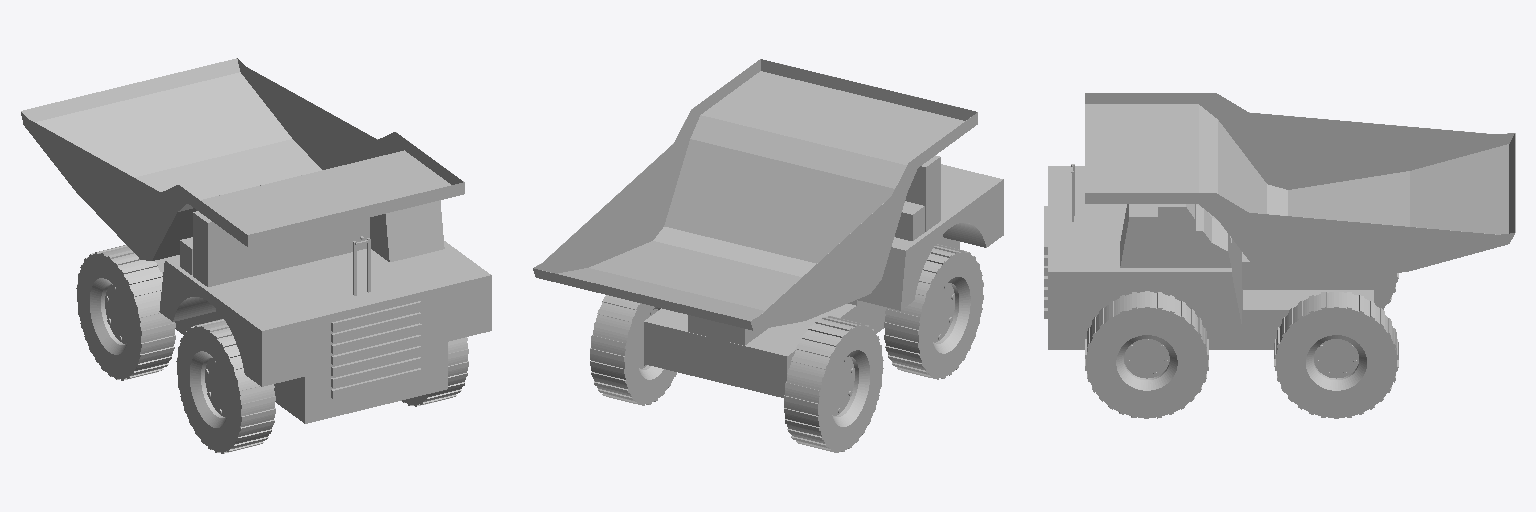
robot.urdf — Haul Truck:
<?xml version="1.0" ?>
<robot name="Haul Truck">
  <!--Generated by CROSS, a ROS Workbench for FreeCAD (https://github.com/galou/freecad.cross)-->
  <link name="chassis_link">
    <visual>
      <!--Chassis/Body.-->
      <origin xyz="0.0 0.0 0.0" rpy="0.0 -0.0 0.0"/>
      <geometry>
        <mesh filename="package://freecad_output/meshes/safeai_Body.dae"/>
      </geometry>
    </visual>
    <collision>
      <!--real_chassis_link_.Body_bbox-->
      <origin xyz="0.090073 5.25 3.35026" rpy="0.0 -0.0 0.0"/>
      <geometry>
        <box size="7.6383887394832115 10.500000000000005 4.84423459552541"/>
      </geometry>
    </collision>
    <inertial>
      <mass value="0.0"/>
      <origin xyz="0.0 0.0 0.0" rpy="0.0 -0.0 0.0"/>
      <inertia ixx="0.0" ixy="0.0" ixz="0.0" iyy="0.0" iyz="0.0" izz="0.0"/>
    </inertial>
  </link>
  <link name="tray_link">
    <visual>
      <!--Tray/Body002.-->
      <origin xyz="0.0 0.0 0.0" rpy="0.0 -0.0 0.0"/>
      <geometry>
        <mesh filename="package://freecad_output/meshes/safeai_Body002.dae"/>
      </geometry>
    </visual>
    <collision>
      <!--Tray/Body002.-->
      <origin xyz="0.0 0.0 0.0" rpy="0.0 -0.0 0.0"/>
      <geometry>
        <mesh filename="package://freecad_output/meshes/safeai_Body002.dae"/>
      </geometry>
    </collision>
    <inertial>
      <mass value="0.0"/>
      <origin xyz="0.0 0.0 0.0" rpy="0.0 -0.0 0.0"/>
      <inertia ixx="0.0" ixy="0.0" ixz="0.0" iyy="0.0" iyz="0.0" izz="0.0"/>
    </inertial>
  </link>
  <link name="front_left_wheel_link">
    <visual>
      <!--Wheel/Body001.-->
      <origin xyz="0.0 0.0 0.0" rpy="0.0 -0.0 0.0"/>
      <geometry>
        <mesh filename="package://freecad_output/meshes/safeai_Body001.dae"/>
      </geometry>
    </visual>
    <collision>
      <!--Wheel_collision/Pad012.-->
      <origin xyz="0.0 0.0 0.0" rpy="0.0 -0.0 0.0"/>
      <geometry>
        <mesh filename="package://freecad_output/meshes/safeai_Pad012.dae"/>
      </geometry>
    </collision>
    <inertial>
      <mass value="0.0"/>
      <origin xyz="0.0 0.0 0.0" rpy="0.0 -0.0 0.0"/>
      <inertia ixx="0.0" ixy="0.0" ixz="0.0" iyy="0.0" iyz="0.0" izz="0.0"/>
    </inertial>
  </link>
  <link name="front_right_wheel_link">
    <visual>
      <!--Wheel/Body001.-->
      <origin xyz="0.0 0.0 0.0" rpy="0.0 -0.0 0.0"/>
      <geometry>
        <mesh filename="package://freecad_output/meshes/safeai_Body001.dae"/>
      </geometry>
    </visual>
    <collision>
      <!--Wheel_collision/Pad012.-->
      <origin xyz="0.0 0.0 0.0" rpy="0.0 -0.0 0.0"/>
      <geometry>
        <mesh filename="package://freecad_output/meshes/safeai_Pad012.dae"/>
      </geometry>
    </collision>
    <inertial>
      <mass value="0.0"/>
      <origin xyz="0.0 0.0 0.0" rpy="0.0 -0.0 0.0"/>
      <inertia ixx="0.0" ixy="0.0" ixz="0.0" iyy="0.0" iyz="0.0" izz="0.0"/>
    </inertial>
  </link>
  <link name="rear_left_wheel_link">
    <visual>
      <!--Wheel/Body001.-->
      <origin xyz="0.0 0.0 0.0" rpy="0.0 -0.0 0.0"/>
      <geometry>
        <mesh filename="package://freecad_output/meshes/safeai_Body001.dae"/>
      </geometry>
    </visual>
    <collision>
      <!--Wheel_collision/Pad012.-->
      <origin xyz="0.0 0.0 0.0" rpy="0.0 -0.0 0.0"/>
      <geometry>
        <mesh filename="package://freecad_output/meshes/safeai_Pad012.dae"/>
      </geometry>
    </collision>
    <inertial>
      <mass value="0.0"/>
      <origin xyz="0.0 0.0 0.0" rpy="0.0 -0.0 0.0"/>
      <inertia ixx="0.0" ixy="0.0" ixz="0.0" iyy="0.0" iyz="0.0" izz="0.0"/>
    </inertial>
  </link>
  <link name="rear_right_wheel_link">
    <visual>
      <!--Wheel/Body001.-->
      <origin xyz="0.0 0.0 0.0" rpy="0.0 -0.0 0.0"/>
      <geometry>
        <mesh filename="package://freecad_output/meshes/safeai_Body001.dae"/>
      </geometry>
    </visual>
    <collision>
      <!--Wheel_collision/Pad012.-->
      <origin xyz="0.0 0.0 0.0" rpy="0.0 -0.0 0.0"/>
      <geometry>
        <mesh filename="package://freecad_output/meshes/safeai_Pad012.dae"/>
      </geometry>
    </collision>
    <inertial>
      <mass value="0.0"/>
      <origin xyz="0.0 0.0 0.0" rpy="0.0 -0.0 0.0"/>
      <inertia ixx="0.0" ixy="0.0" ixz="0.0" iyy="0.0" iyz="0.0" izz="0.0"/>
    </inertial>
  </link>
  <link name="lidar_link">
    <visual>
      <!--lidar_part/Mesh001.-->
      <origin xyz="0.0 0.0 0.0" rpy="0.0 -0.0 0.0"/>
      <geometry>
        <mesh filename="package://freecad_output/meshes/safeai_Mesh001.dae"/>
      </geometry>
    </visual>
    <visual>
      <!--lidar_part/Body007.-->
      <origin xyz="0.0 0.0 0.0" rpy="0.0 -0.0 0.0"/>
      <geometry>
        <mesh filename="package://freecad_output/meshes/safeai_Body007.dae"/>
      </geometry>
    </visual>
    <collision>
      <!--lidar_part/Mesh001.-->
      <origin xyz="0.0 0.0 0.0" rpy="0.0 -0.0 0.0"/>
      <geometry>
        <mesh filename="package://freecad_output/meshes/safeai_Mesh001.dae"/>
      </geometry>
    </collision>
    <collision>
      <!--lidar_part/Body007.-->
      <origin xyz="0.0 0.0 0.0" rpy="0.0 -0.0 0.0"/>
      <geometry>
        <mesh filename="package://freecad_output/meshes/safeai_Body007.dae"/>
      </geometry>
    </collision>
    <inertial>
      <mass value="0.0"/>
      <origin xyz="0.0 0.0 0.0" rpy="0.0 -0.0 0.0"/>
      <inertia ixx="0.0" ixy="0.0" ixz="0.0" iyy="0.0" iyz="0.0" izz="0.0"/>
    </inertial>
  </link>
  <joint name="tray_joint" type="fixed">
    <parent link="chassis_link"/>
    <child link="tray_link"/>
    <origin xyz="-3.8 13.0 3.1" rpy="0.0 -0.0 0.0"/>
  </joint>
  <joint name="front_left_wheel_joint" type="continuous">
    <parent link="chassis_link"/>
    <child link="front_left_wheel_link"/>
    <origin xyz="2.8 3.2 0.6" rpy="0.0 -0.0 0.0"/>
    <axis xyz="0 0 1"/>
    <limit lower="0.0" upper="0.0" velocity="0.0" effort="0.0"/>
  </joint>
  <joint name="front_right_wheel_joint" type="continuous">
    <parent link="chassis_link"/>
    <child link="front_right_wheel_link"/>
    <origin xyz="-4.0 3.2 0.6" rpy="0.0 -0.0 0.0"/>
    <axis xyz="0 0 1"/>
    <limit lower="0.0" upper="0.0" velocity="0.0" effort="0.0"/>
  </joint>
  <joint name="rear_left_wheel_joint" type="continuous">
    <parent link="chassis_link"/>
    <child link="rear_left_wheel_link"/>
    <origin xyz="2.8 9.3 0.6" rpy="0.0 -0.0 0.0"/>
    <axis xyz="0 0 1"/>
    <limit lower="0.0" upper="0.0" velocity="0.0" effort="0.0"/>
  </joint>
  <joint name="rear_right_wheel_joint" type="continuous">
    <parent link="chassis_link"/>
    <child link="rear_right_wheel_link"/>
    <origin xyz="-4.0 9.3 0.6" rpy="0.0 -0.0 0.0"/>
    <axis xyz="0 0 1"/>
    <limit lower="0.0" upper="0.0" velocity="0.0" effort="0.0"/>
  </joint>
  <joint name="lidar_joint" type="fixed">
    <parent link="chassis_link"/>
    <child link="lidar_link"/>
    <origin xyz="0.0 0.8 5.7" rpy="0.0 -0.0 0.0"/>
  </joint>
</robot>

--- Facts derived from the render (not from the file) ---
3 views of the same robot in one strip: view 1: azimuth 30°, elevation 25°; view 2: azimuth 150°, elevation 25°; view 3: azimuth 270°, elevation 25° (orthographic).
Robot: Haul Truck — 7 links, 6 joints (4 continuous, 2 fixed); root link chassis_link; default pose: every joint at zero.
Visible links, largest first — view 1: tray_link, chassis_link, rear_right_wheel_link, front_right_wheel_link, front_left_wheel_link; view 2: tray_link, chassis_link, rear_right_wheel_link, front_right_wheel_link, rear_left_wheel_link; view 3: tray_link, chassis_link, rear_left_wheel_link, front_left_wheel_link, rear_right_wheel_link.
Boxes of the visible links, x1,y1,x2,y2 form: tray_link: (21, 58, 464, 260); chassis_link: (154, 200, 491, 423); rear_right_wheel_link: (76, 245, 175, 380); front_right_wheel_link: (176, 319, 275, 453); front_left_wheel_link: (402, 337, 468, 406); tray_link: (533, 59, 977, 330); chassis_link: (644, 155, 1003, 397); rear_right_wheel_link: (784, 316, 883, 452); front_right_wheel_link: (884, 244, 983, 379); rear_left_wheel_link: (590, 295, 676, 405); tray_link: (1085, 93, 1515, 289); chassis_link: (1044, 164, 1373, 349); rear_left_wheel_link: (1274, 291, 1398, 418); front_left_wheel_link: (1085, 291, 1208, 418); rear_right_wheel_link: (1374, 273, 1398, 309).
Bounding box of the posed robot: 8.09 × 15.16 × 7.96 m (x, y, z).
7 mesh visuals loaded from 5 distinct referenced files (4 Collada DAE); not drawn: 1 (file found but could not be loaded).
